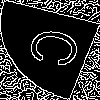C: (25, 25, 94, 73)
